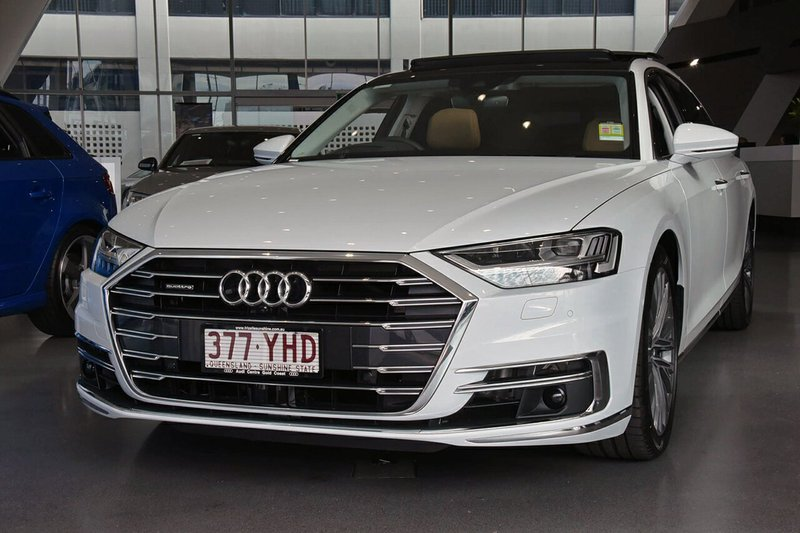audi: (209, 269, 318, 316)
